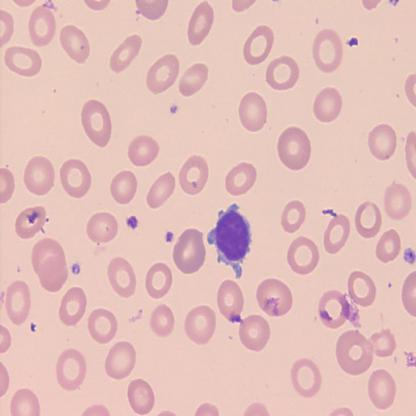Lymphocyte: (207, 201, 253, 278)
